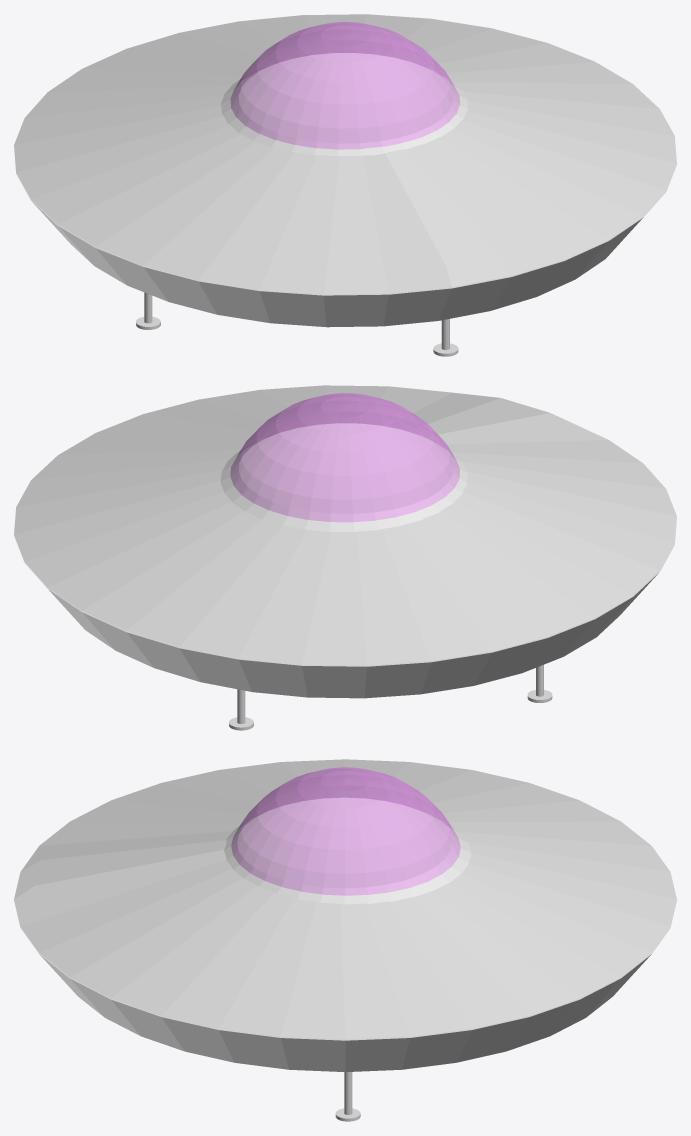
Rendered from ufo.glb.
3 renders of one model, top to bottom at view 1: azimuth 30°, elevation 25°; view 2: azimuth 150°, elevation 25°; view 3: azimuth 270°, elevation 25°, orthographic.
Visible parts, largest first — view 1: Cylinder, Sphere, Cylinder.002, Cylinder.001; view 2: Cylinder, Sphere, Cylinder.002, Cylinder.001; view 3: Cylinder, Sphere, Cylinder.002, Cylinder.001.
Part boxes in pixels (bbox=[...]): Cylinder: bbox=[14, 14, 676, 294]; Sphere: bbox=[230, 22, 459, 149]; Cylinder.002: bbox=[220, 53, 467, 156]; Cylinder.001: bbox=[14, 147, 676, 327]; Cylinder: bbox=[14, 385, 676, 665]; Sphere: bbox=[230, 393, 459, 522]; Cylinder.002: bbox=[220, 423, 467, 531]; Cylinder.001: bbox=[14, 518, 676, 698]; Cylinder: bbox=[14, 759, 676, 1039]; Sphere: bbox=[231, 767, 460, 895]; Cylinder.002: bbox=[224, 797, 471, 904]; Cylinder.001: bbox=[14, 900, 676, 1072].
Size of the model in its own units: 15.39 by 6.24 by 15.39.
